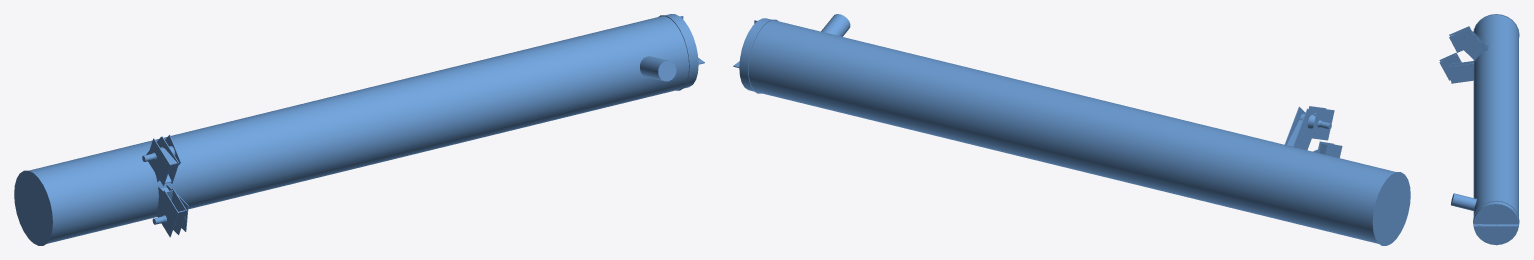
The model's file is tank-c2.glb.
3 views of the same model, side by side, from view 1: azimuth 30°, elevation 25°; view 2: azimuth 150°, elevation 25°; view 3: azimuth 270°, elevation 25° (orthographic). The views are drawn at different scales.
Parts seen in each view (by area): view 1: tank-c2; view 2: tank-c2; view 3: tank-c2.
Part boxes in pixels (<box>): tank-c2: <box>14,14,704,245</box>; tank-c2: <box>733,14,1410,245</box>; tank-c2: <box>1439,14,1519,245</box>.
Size of the model in its own units: 35.9 by 5.14 by 6.35.
